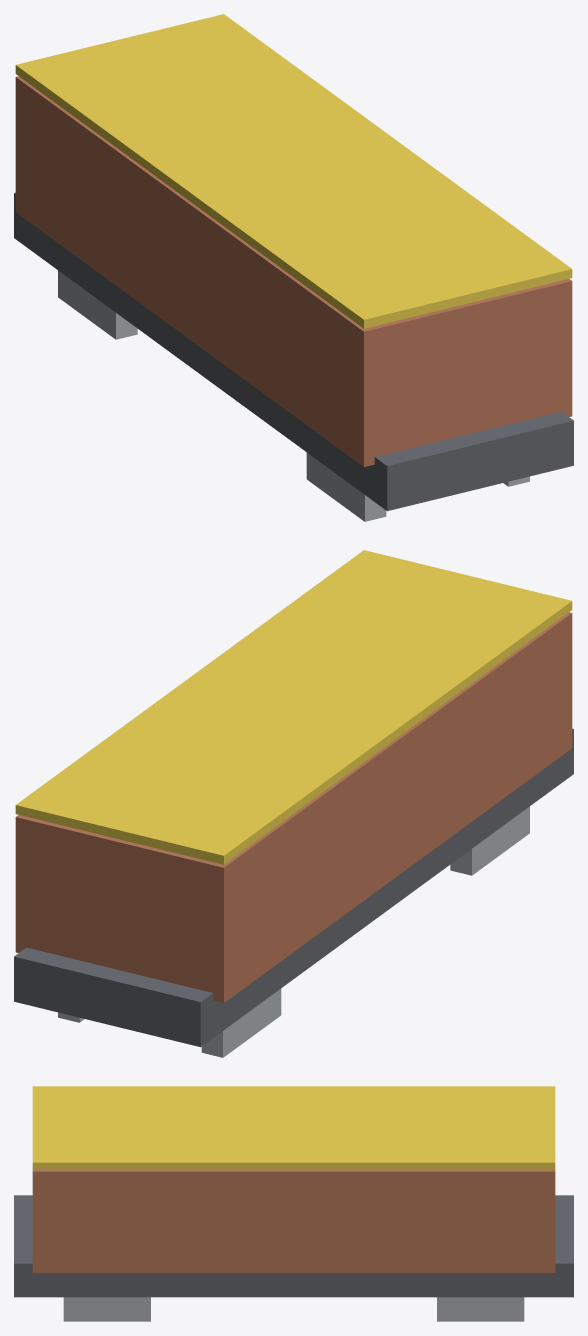
The model's file is RailCar.glb.
3 renders of one model, top to bottom at view 1: azimuth 30°, elevation 25°; view 2: azimuth 150°, elevation 25°; view 3: azimuth 270°, elevation 25°, orthographic. The views are drawn at different scales.
Visible parts, largest first — view 1: RailCar; view 2: RailCar; view 3: RailCar.
Boxes of the visible parts, x1,y1,x2,y2 form: RailCar: (14,14,573,521); RailCar: (14,550,573,1057); RailCar: (14,1086,573,1321).
Size of the model in its own units: 2.9 by 2.96 by 9.
